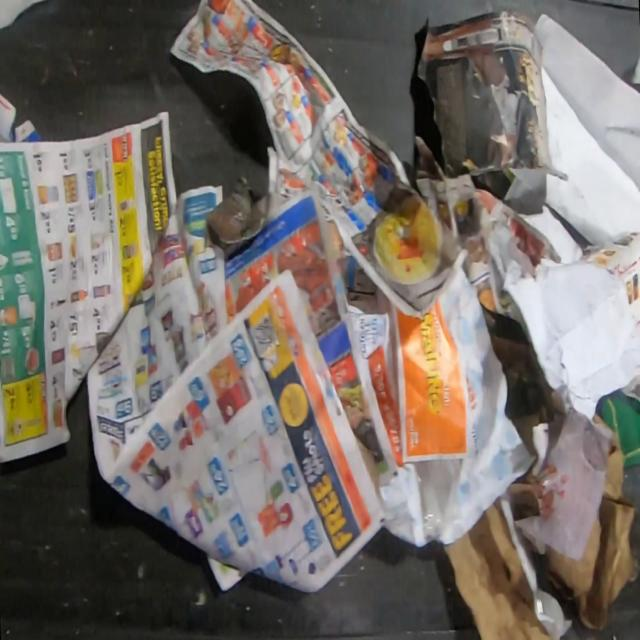cardboard: (508, 406, 635, 630), (442, 497, 542, 638)
rigid_plastic: (587, 428, 640, 640)
soft_plastic: (415, 459, 465, 544), (484, 221, 536, 289)
